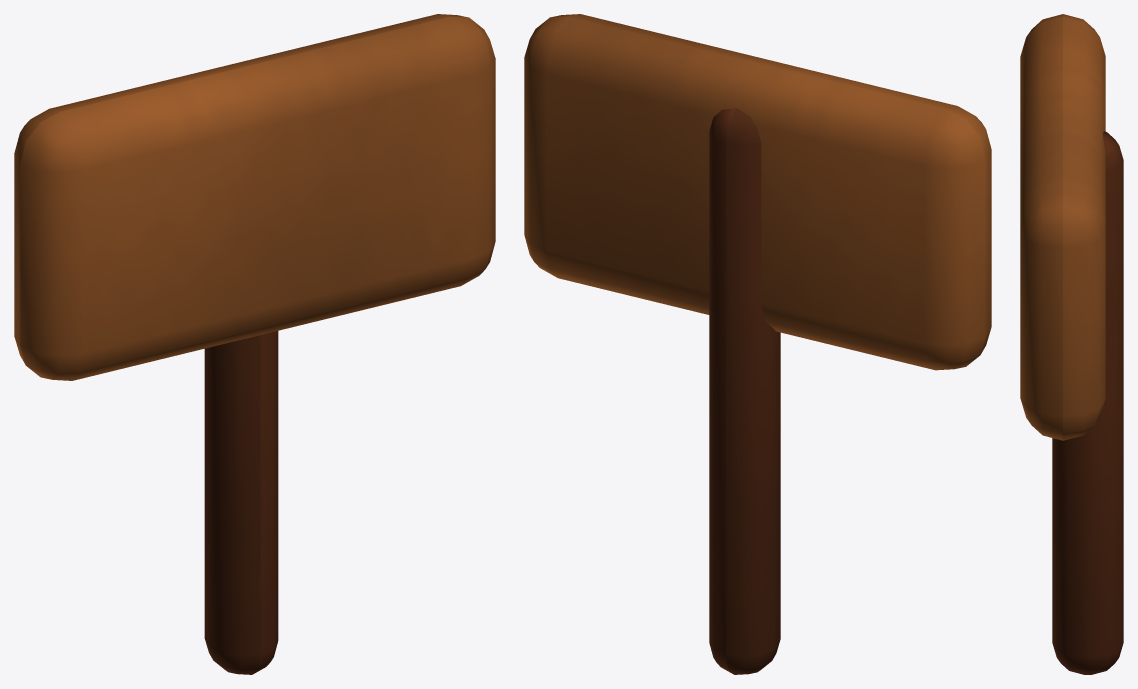
File: Sign.fbx
3 renders of one model, left to right at view 1: azimuth 30°, elevation 25°; view 2: azimuth 150°, elevation 25°; view 3: azimuth 270°, elevation 25°, orthographic. The views are drawn at different scales.
Visible parts, largest first — view 1: Sign; view 2: Sign; view 3: Sign.
Part boxes in pixels (x1=…): Sign: x1=14, y1=14, x2=495, y2=674; Sign: x1=524, y1=14, x2=991, y2=674; Sign: x1=1020, y1=14, x2=1123, y2=674.
Size of the model in its own units: 70 by 88 by 14.5.
Materials: 1 (1 with a texture image).
